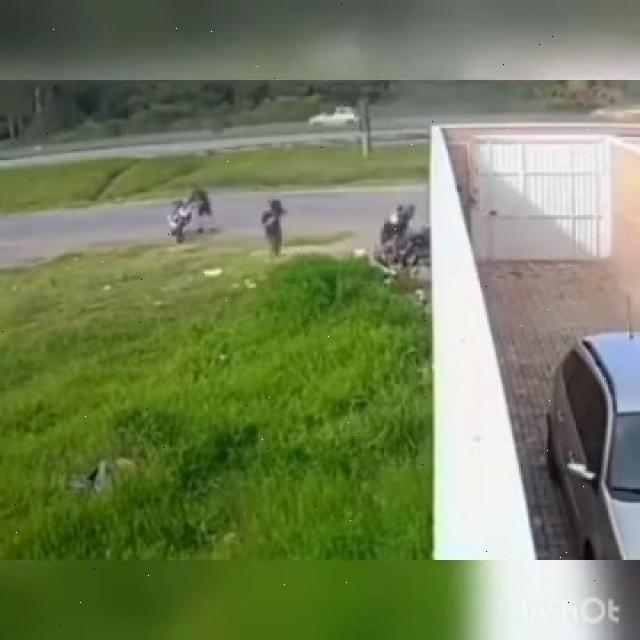accident: (372, 217, 438, 278)
